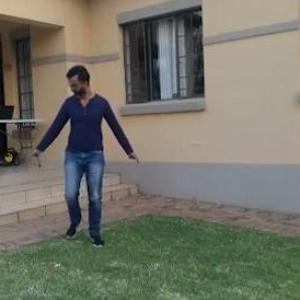land: (22, 50, 149, 258)
